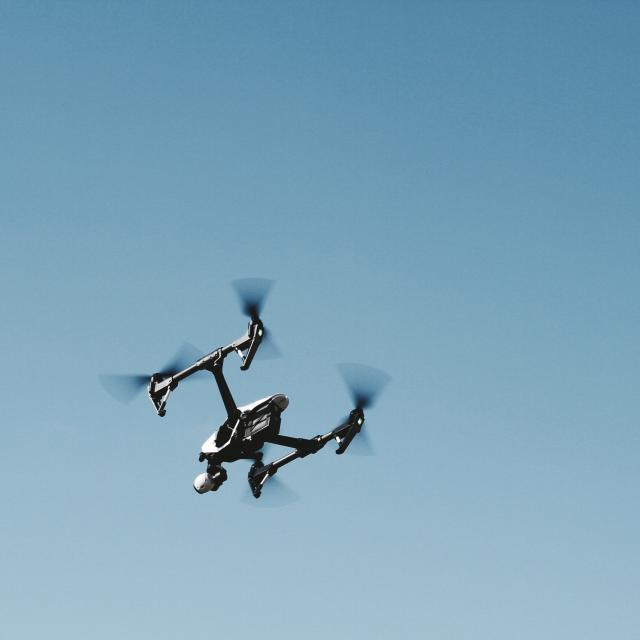drone: (87, 274, 401, 516)
